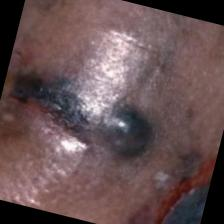wound-ulser: (0, 39, 169, 170), (143, 142, 217, 224)
